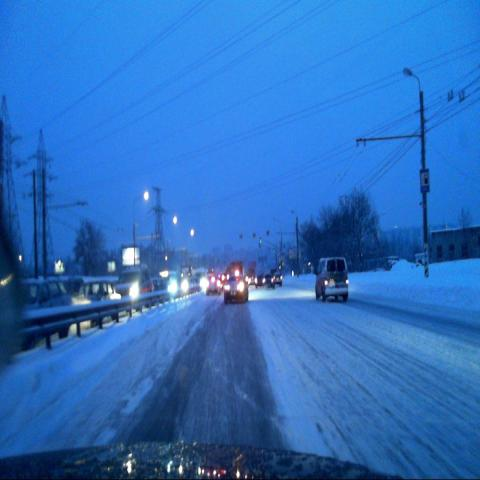7_3: (420, 168, 432, 191)
